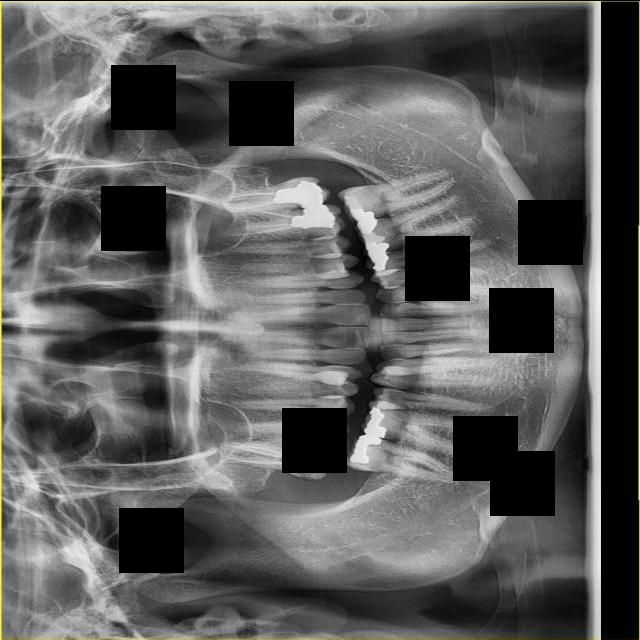74: (237, 439, 296, 460), (223, 439, 280, 459), (229, 223, 291, 239), (226, 199, 274, 214), (226, 456, 289, 466), (244, 206, 293, 218), (221, 190, 276, 199), (243, 222, 290, 227)
NucleOSS Implant: (271, 175, 324, 209), (348, 429, 382, 469), (290, 203, 336, 228), (363, 405, 394, 439), (356, 214, 382, 235), (306, 437, 340, 453), (351, 204, 376, 222), (369, 251, 390, 272), (366, 241, 390, 256)
Sterngold Implant: (285, 442, 337, 486), (319, 410, 336, 416), (385, 431, 397, 437)
Straumann Implant: (362, 227, 386, 247)
